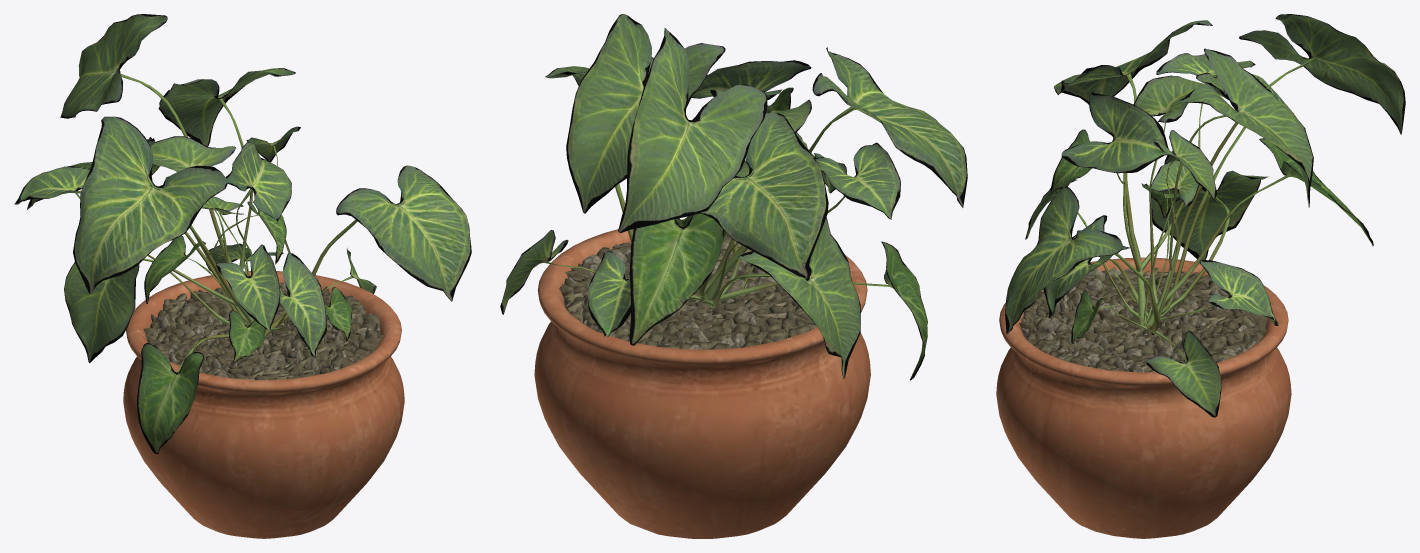
File: potted_plant_02.glb
3 renders of one model, left to right at view 1: azimuth 30°, elevation 25°; view 2: azimuth 150°, elevation 25°; view 3: azimuth 270°, elevation 25°, orthographic. The views are drawn at different scales.
Visible parts, largest first — view 1: potted_plant_02_leaves, potted_plant_02_pot; view 2: potted_plant_02_leaves, potted_plant_02_pot; view 3: potted_plant_02_pot, potted_plant_02_leaves.
Part boxes in pixels (box(x1,y1,x2,y2)): potted_plant_02_leaves: box(14, 14, 471, 453); potted_plant_02_pot: box(123, 271, 404, 538); potted_plant_02_leaves: box(500, 14, 967, 380); potted_plant_02_pot: box(534, 219, 870, 538); potted_plant_02_pot: box(996, 257, 1291, 538); potted_plant_02_leaves: box(1005, 14, 1405, 417).
Size of the model in its own units: 0.7009 by 0.8411 by 0.6574.
Materials: 2 (2 with a texture image).
